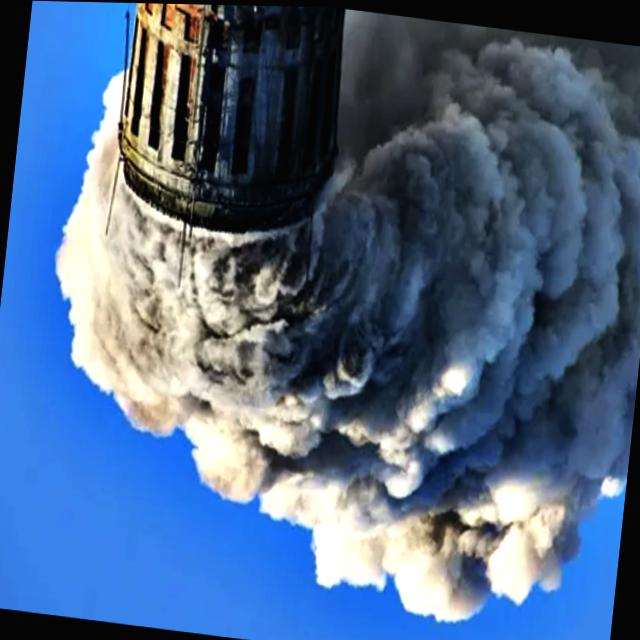no_helmet: (23, 18, 640, 639)
